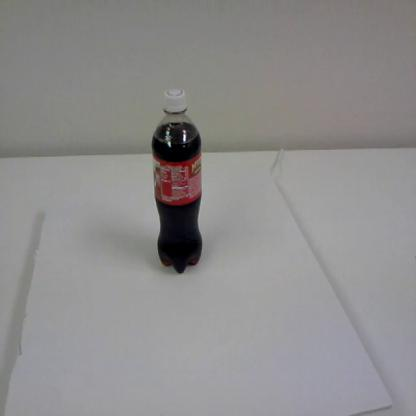bottle: (148, 86, 206, 278)
